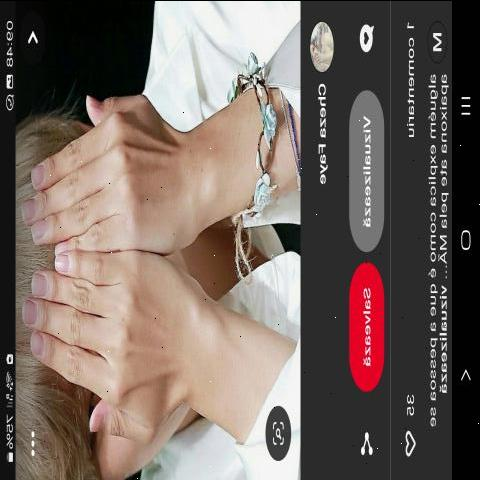Hands: (8, 256, 244, 454), (11, 77, 238, 252)
